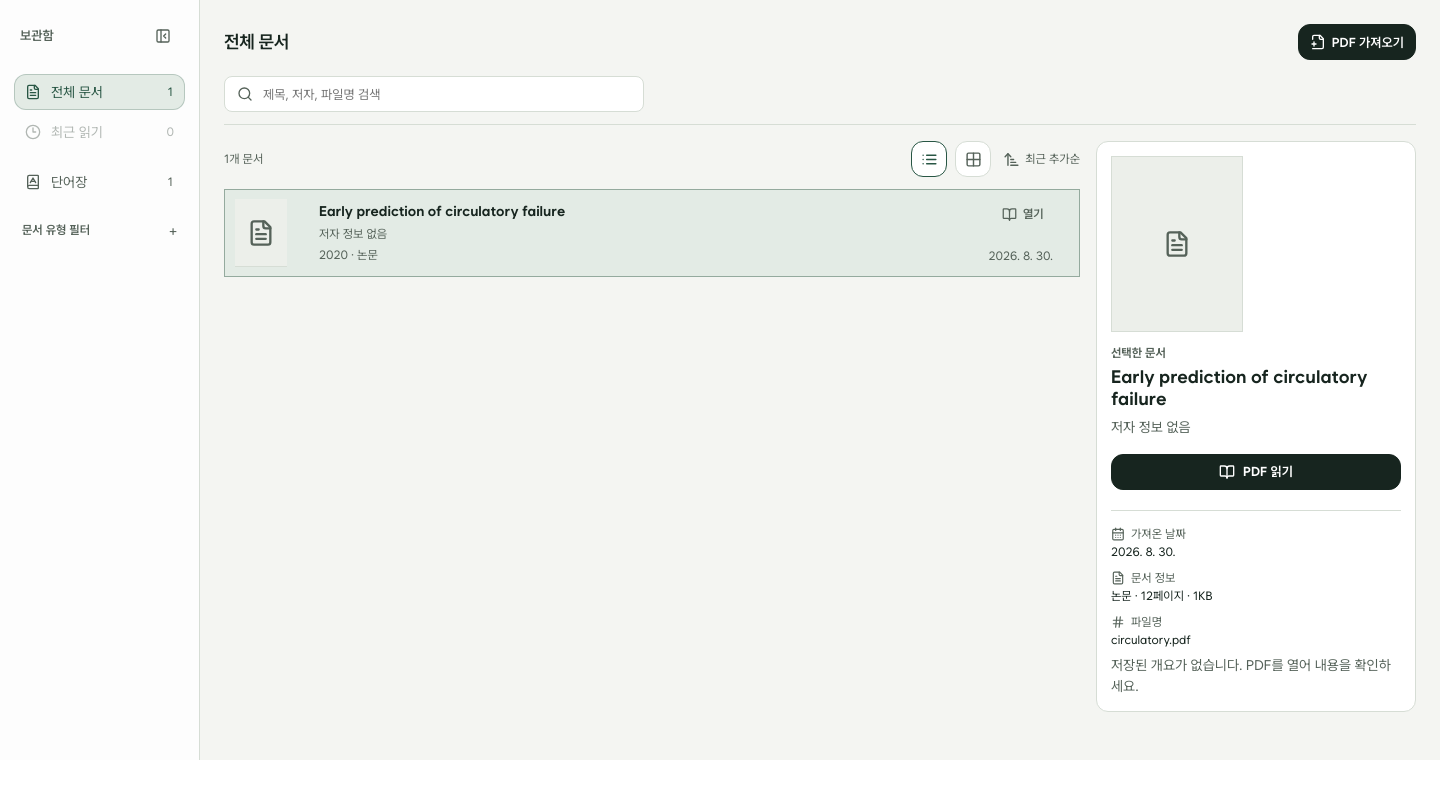
Test: LibraryHome vocabulary › opens the vocabulary from the sidebar in place of the papers
Click the button "단어장 1" at (100, 182), box 14,164 -> 185,200
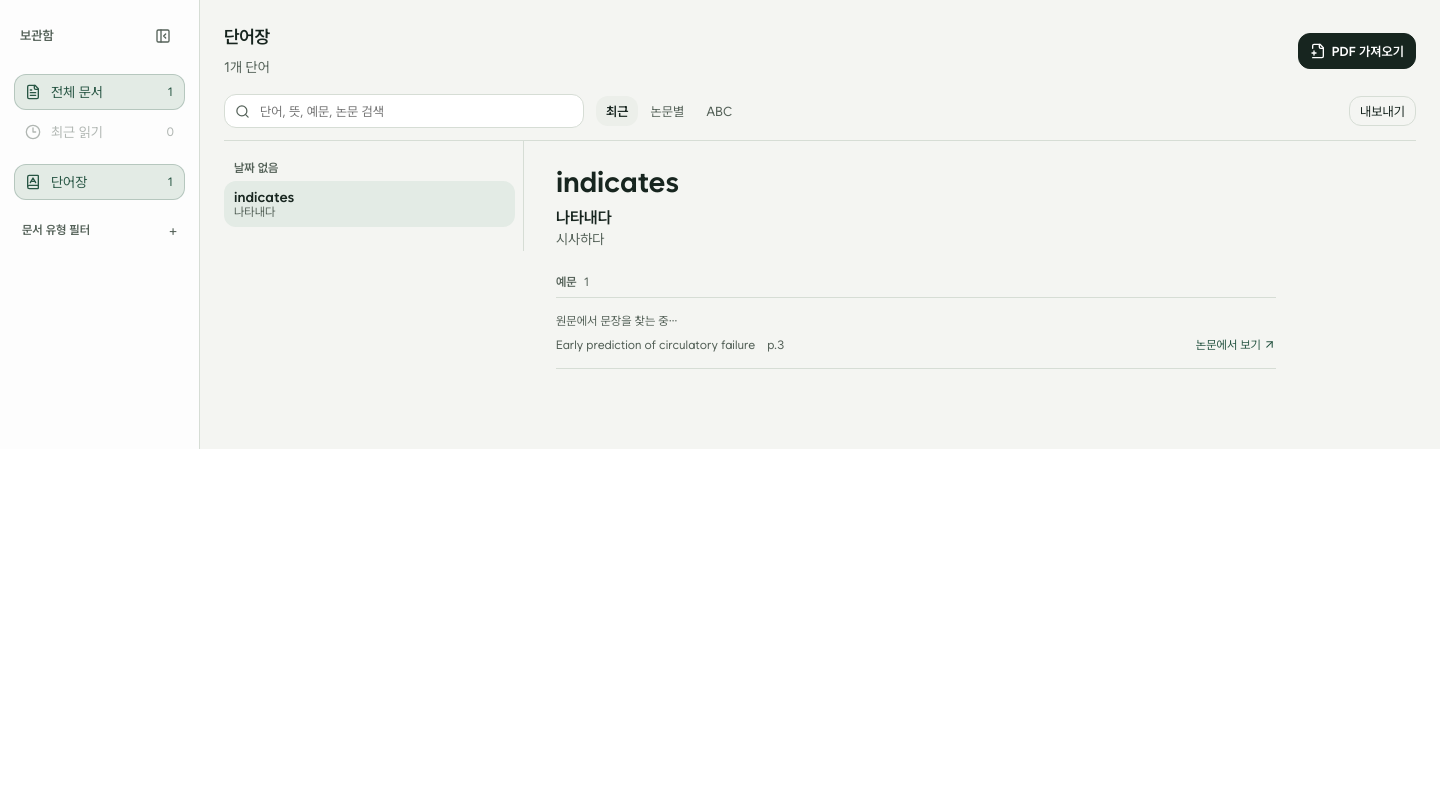
Result: the heading "단어장" is shown at 224,24 -> 270,49
Result: the text "1개 단어" is shown at 224,57 -> 270,78
Result: the element named "단어장" is shown at 224,94 -> 1416,401
Click the button "전체 문서 1" at (100, 92), box 14,74 -> 185,110
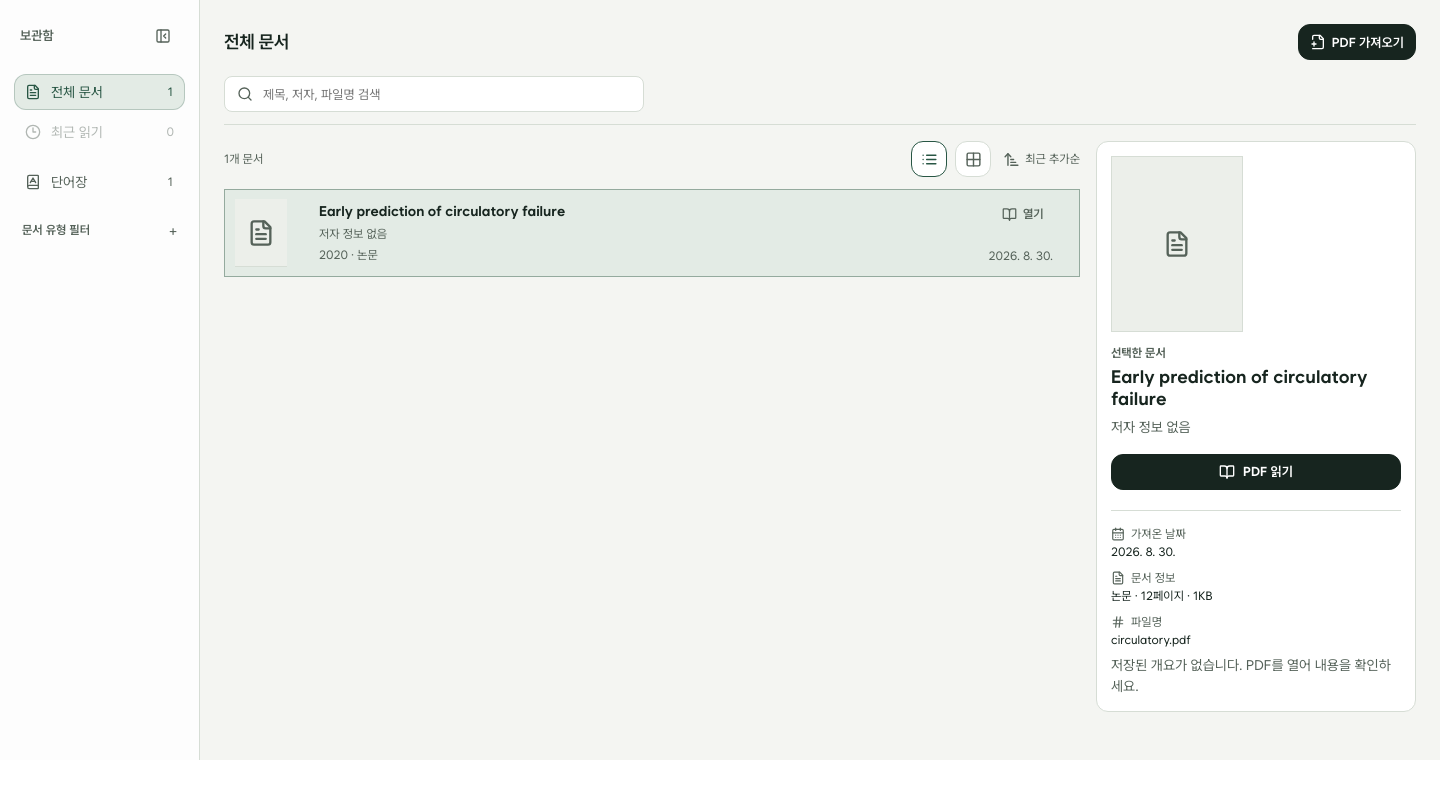
Result: the search field named "라이브러리 검색" is shown at 261,86 -> 631,102
